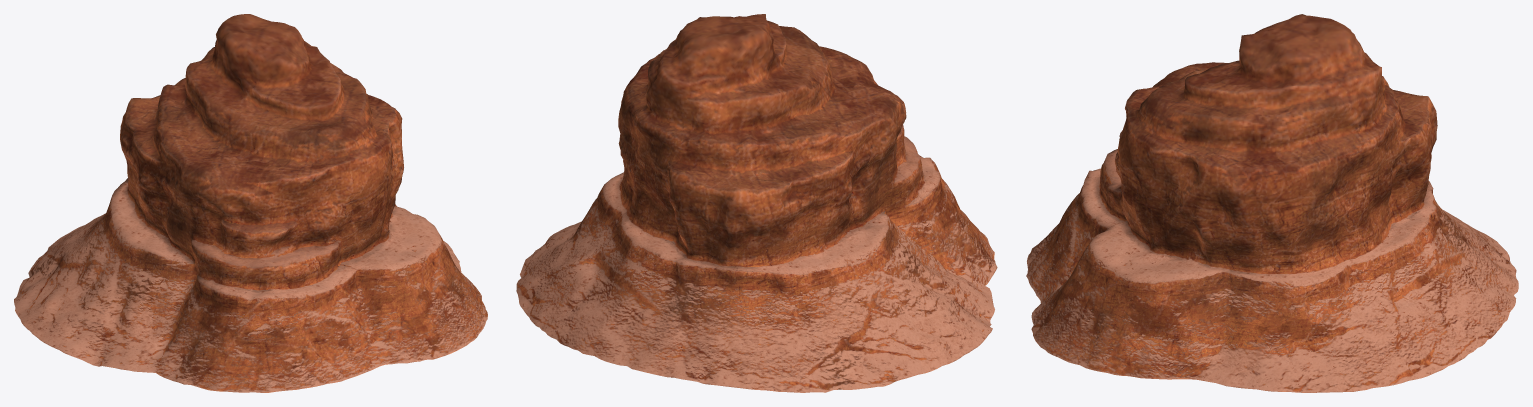
Rendered from desert_cliff_6.glb.
The picture shows the model from 3 angles, left to right: view 1: azimuth 30°, elevation 25°; view 2: azimuth 150°, elevation 25°; view 3: azimuth 270°, elevation 25°; orthographic projection. The views are drawn at different scales.
Parts seen in each view (by area): view 1: P6DesertCliff-High; view 2: P6DesertCliff-High; view 3: P6DesertCliff-High.
Boxes of the visible parts, x1,y1,x2,y2 form: P6DesertCliff-High: (14,14,487,392); P6DesertCliff-High: (516,14,997,392); P6DesertCliff-High: (1026,14,1518,392).
Size of the model in its own units: 3007 by 1848 by 2945.
1 material, 1 textured.
